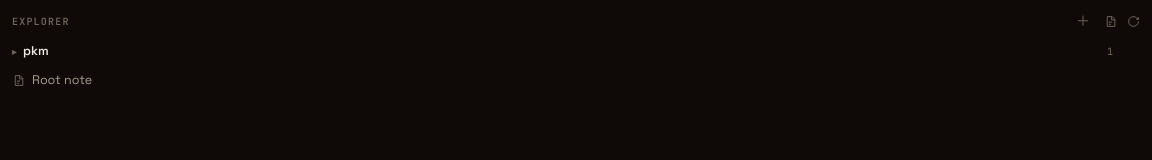
WikiExplorer (WEXP tree pane) › expand a folder reveals its notes + nested subfolder
The width and height of the screenshot is (1152, 160).
Click the button with test id "wex-folder-toggle". click: click(15, 51)
box: [6,38,1119,64]
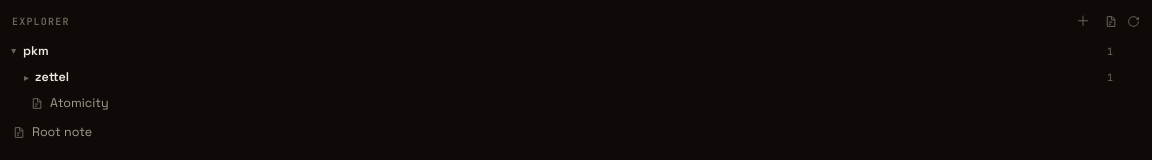
Check: the text "Atomicity" is shown, box [50,95,109,111]
